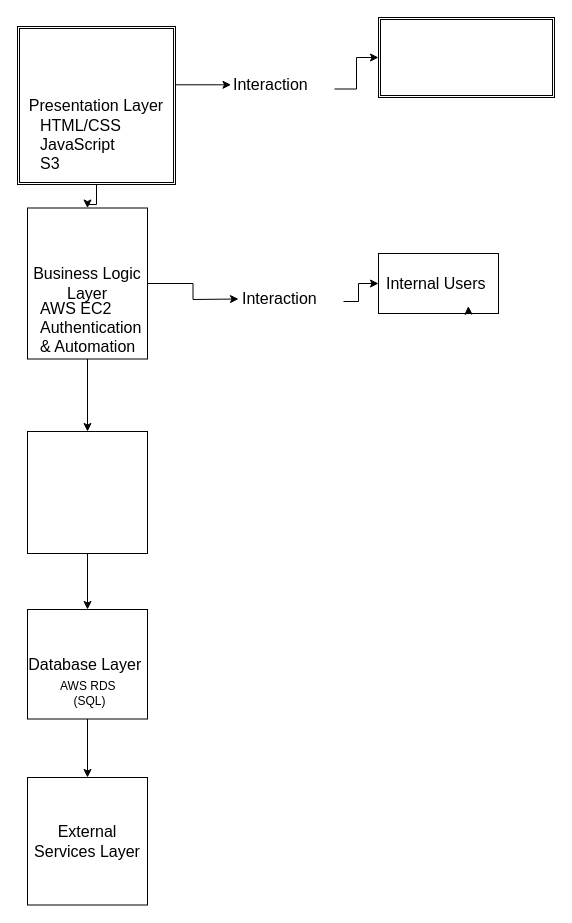
Some shapes in this 572 by 923 pixel diagram are drawn without their labels. Each missing label, with the centre of its shape:
"Data Access Layer" goes at [87,492].
"External Users" goes at [466,57].
